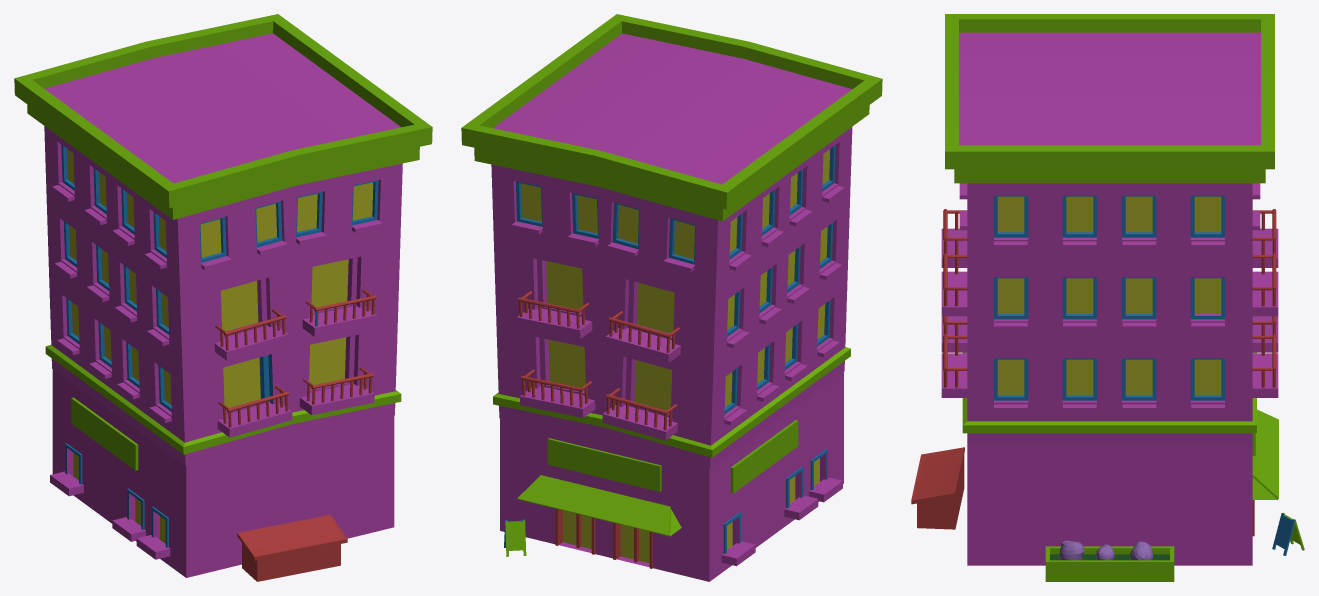
Rendered from SM_M_Building_B.fbx.
3 renders of one model, left to right at view 1: azimuth 30°, elevation 25°; view 2: azimuth 150°, elevation 25°; view 3: azimuth 270°, elevation 25°, orthographic. The views are drawn at different scales.
Parts seen in each view (by area): view 1: SM_M_Building_B; view 2: SM_M_Building_B; view 3: SM_M_Building_B.
Part boxes in pixels (left/top/right/bottom): SM_M_Building_B: left=14, top=14, right=432, bottom=581; SM_M_Building_B: left=461, top=14, right=882, bottom=581; SM_M_Building_B: left=911, top=14, right=1304, bottom=581.
Size of what is drawn, in the model's own units: 1388 by 2023 by 1655.
